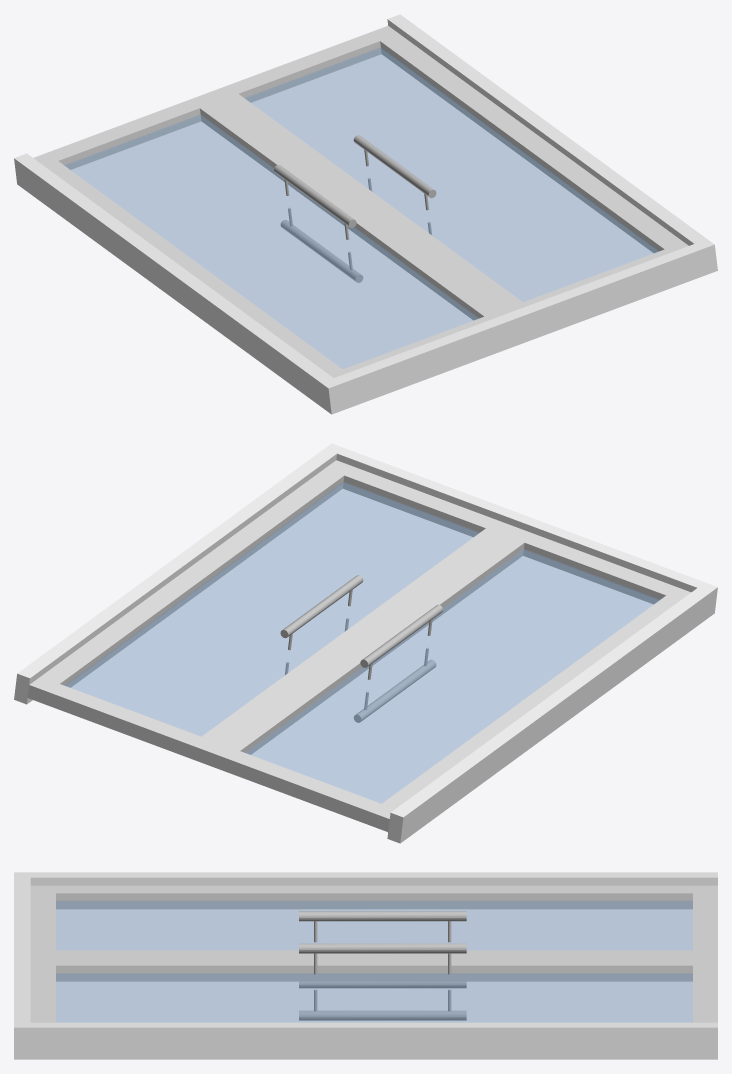
3 views of the same model, one above another, from view 1: azimuth 30°, elevation 25°; view 2: azimuth 150°, elevation 25°; view 3: azimuth 270°, elevation 25° (orthographic). The views are drawn at different scales.
Visible parts, largest first — view 1: 0_3_1_2_3_1_0_1; view 2: 0_3_1_2_3_1_0_1; view 3: 0_3_1_2_3_1_0_1.
Boxes of the visible parts, bbox=[...] form: 0_3_1_2_3_1_0_1: bbox=[14, 14, 717, 414]; 0_3_1_2_3_1_0_1: bbox=[14, 443, 717, 843]; 0_3_1_2_3_1_0_1: bbox=[14, 872, 717, 1059].
Size of the model in its own units: 1.5 by 0.2821 by 2.1.
